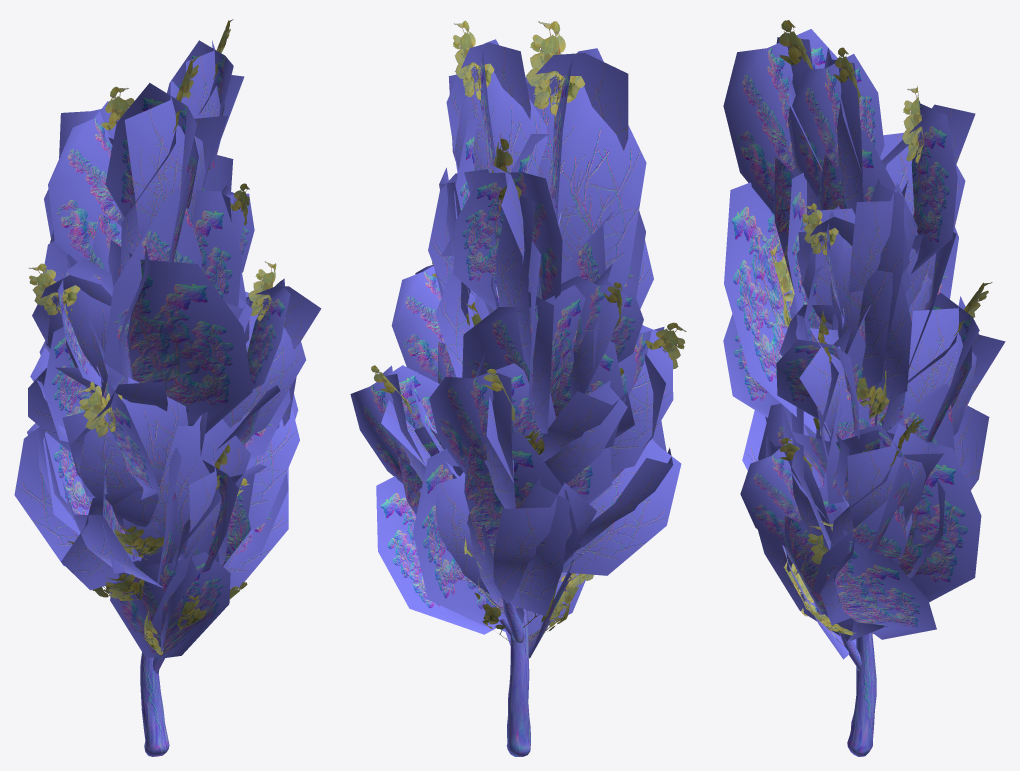
File: PoplarTree00g.fbx
3 views of the same model, side by side, from view 1: azimuth 30°, elevation 25°; view 2: azimuth 150°, elevation 25°; view 3: azimuth 270°, elevation 25° (orthographic). The views are drawn at different scales.
Visible parts, largest first — view 1: PoplarBranchB024, PoplarBranchA006, PoplarBranchB019, PoplarBranchB027, PoplarBranchA037, PoplarBranchA, PoplarBranchB023, PoplarBranchB022, PoplarBranchB018, PoplarBranchA005, PoplarBranchA011, PoplarBranchA046 (+42 smaller); view 2: PoplarBranchA036, PoplarBranchB019, PoplarBranchB001, PoplarBranchA010, PoplarBranchB021, PoplarBranchB003, PoplarBranchB030, PoplarBranchB002, PoplarBranchA026, PoplarBranchA003, PoplarBranchB028, PoplarBranchB010 (+41 smaller); view 3: PoplarBranchB024, PoplarBranchB022, PoplarBranchB003, PoplarBranchB016, PoplarBranchB030, PoplarBranchB019, PoplarBranchA002, PoplarBranchA047, PoplarBranchB025, PoplarBranchA028, PoplarBranchB010, PoplarBranchA027 (+46 smaller).
Part boxes in pixels (<box>): PoplarBranchB024: <box>108,240,252,433</box>; PoplarBranchA006: <box>62,377,188,526</box>; PoplarBranchB019: <box>48,101,121,261</box>; PoplarBranchB027: <box>110,552,230,657</box>; PoplarBranchA037: <box>124,80,205,241</box>; PoplarBranchA: <box>141,415,250,563</box>; PoplarBranchB023: <box>103,186,202,379</box>; PoplarBranchB022: <box>105,83,198,265</box>; PoplarBranchB018: <box>192,190,242,306</box>; PoplarBranchA005: <box>14,427,78,566</box>; PoplarBranchA011: <box>36,275,112,396</box>; PoplarBranchA046: <box>246,406,299,529</box>; PoplarBranchA036: <box>525,77,646,286</box>; PoplarBranchB019: <box>453,172,562,309</box>; PoplarBranchB001: <box>429,363,555,473</box>; PoplarBranchA010: <box>562,439,681,575</box>; PoplarBranchB021: <box>462,285,585,404</box>; PoplarBranchB003: <box>413,448,572,626</box>; PoplarBranchB030: <box>376,476,501,634</box>; PoplarBranchB002: <box>464,433,580,560</box>; PoplarBranchA026: <box>448,72,547,176</box>; PoplarBranchA003: <box>493,482,596,603</box>; PoplarBranchB028: <box>350,365,439,483</box>; PoplarBranchB010: <box>391,266,444,383</box>; PoplarBranchB024: <box>724,182,815,433</box>; PoplarBranchB022: <box>723,29,837,213</box>; PoplarBranchB003: <box>880,419,981,602</box>; PoplarBranchB016: <box>790,54,884,196</box>; PoplarBranchB030: <box>832,506,936,639</box>; PoplarBranchB019: <box>910,95,957,274</box>; PoplarBranchA002: <box>902,296,978,435</box>; PoplarBranchA047: <box>847,423,933,528</box>; PoplarBranchB025: <box>740,438,801,547</box>; PoplarBranchA028: <box>848,182,917,292</box>; PoplarBranchB010: <box>776,339,859,438</box>; PoplarBranchA027: <box>824,47,863,214</box>.
Bounding box in the file's own units: 1172 × 2868 × 985.
